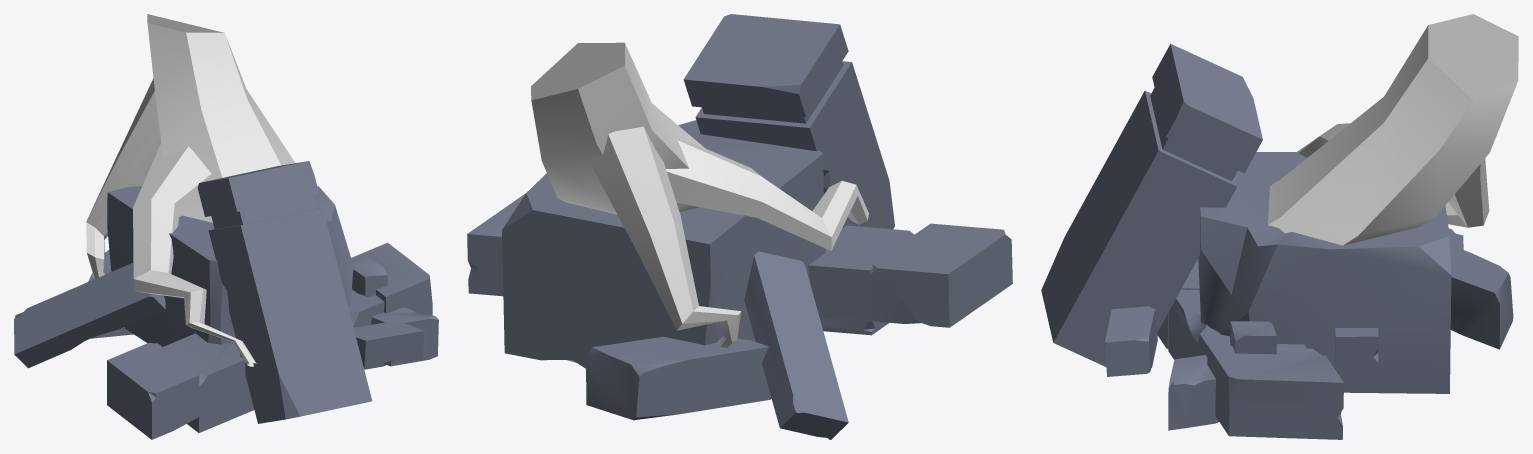
File: SM_Tree_Ruins_C.fbx
3 views of the same model, side by side, from view 1: azimuth 30°, elevation 25°; view 2: azimuth 150°, elevation 25°; view 3: azimuth 270°, elevation 25° (orthographic). The views are drawn at different scales.
Parts seen in each view (by area): view 1: SM_Tree_Ruins_C; view 2: SM_Tree_Ruins_C; view 3: SM_Tree_Ruins_C.
Boxes of the visible parts, x1,y1,x2,y2 form: SM_Tree_Ruins_C: [14, 14, 438, 439]; SM_Tree_Ruins_C: [467, 14, 1012, 439]; SM_Tree_Ruins_C: [1041, 14, 1518, 439].
Size of what is drawn, in the model's own units: 406 by 329 by 416.
